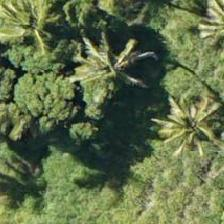coconut_tree: (66, 22, 156, 112), (150, 78, 223, 168), (0, 0, 77, 68)
